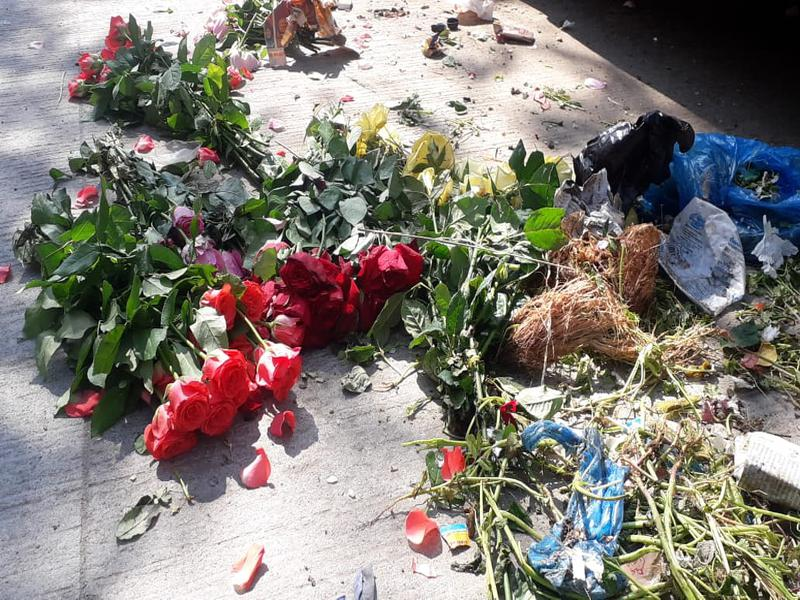flowers: (108, 201, 420, 493), (327, 82, 581, 245), (49, 8, 262, 162), (204, 1, 386, 78)
paper: (748, 215, 800, 281)
plastic: (674, 127, 800, 238), (568, 104, 696, 211)
